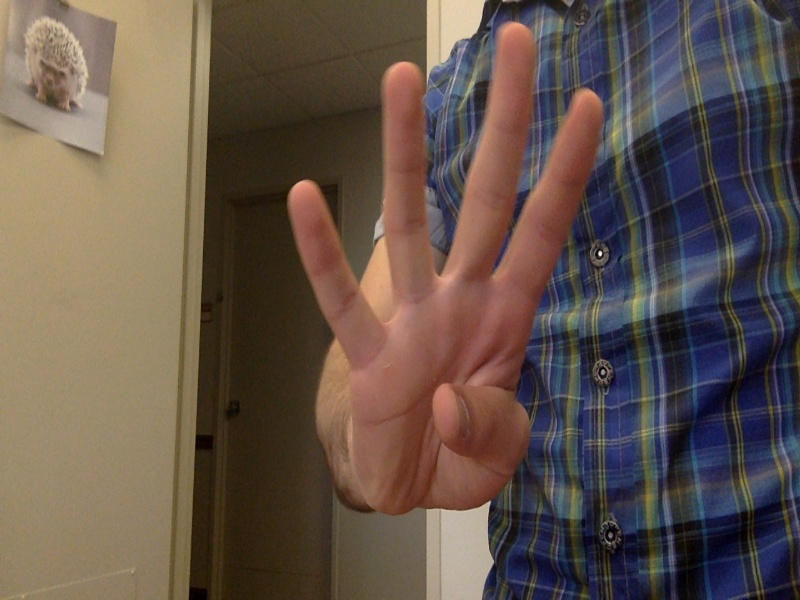4-hand: (285, 23, 601, 514)
